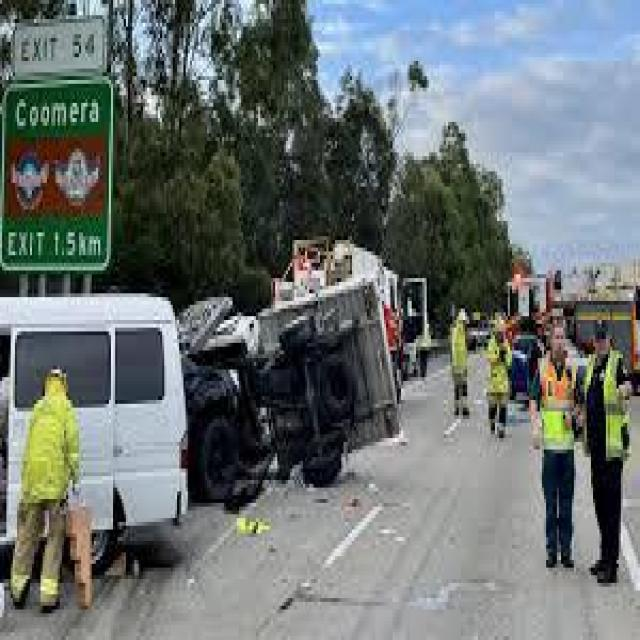severe: (172, 292, 415, 508)
